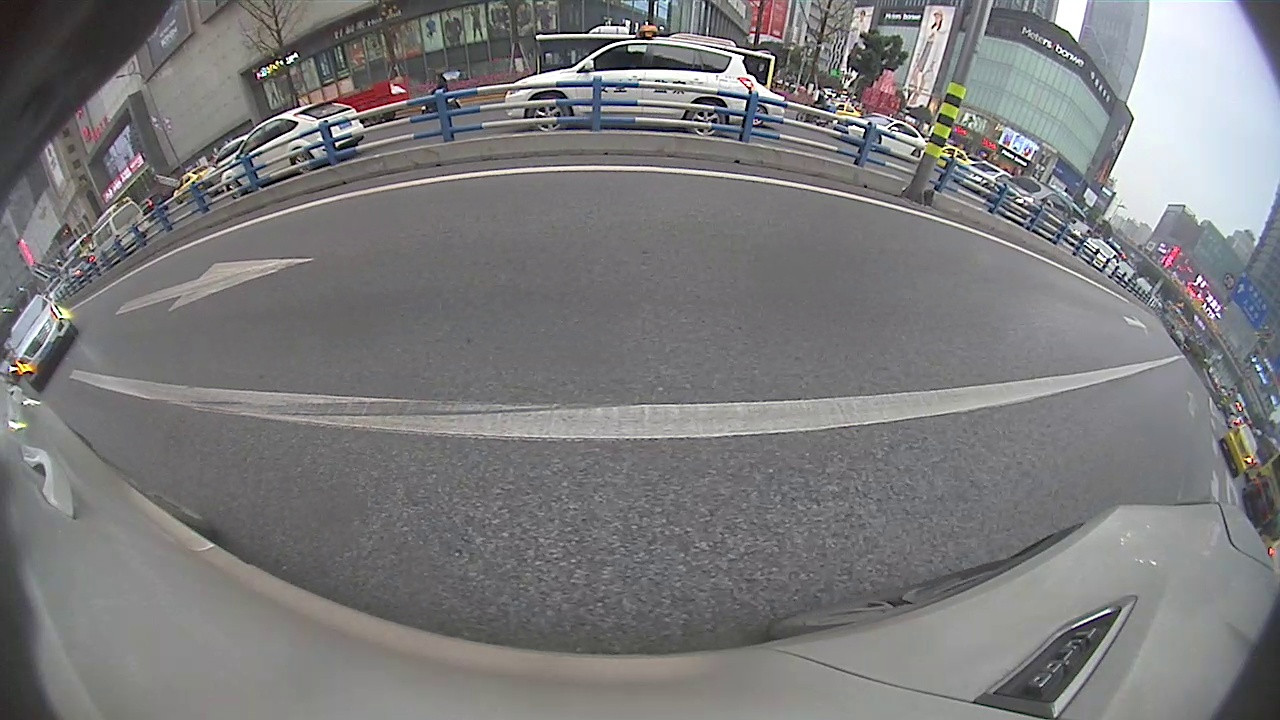bus: (528, 22, 777, 93)
car: (501, 21, 761, 145), (219, 100, 367, 202), (4, 291, 82, 394), (985, 170, 1075, 246)
front: (521, 94, 573, 136)
rear: (683, 99, 728, 142)
